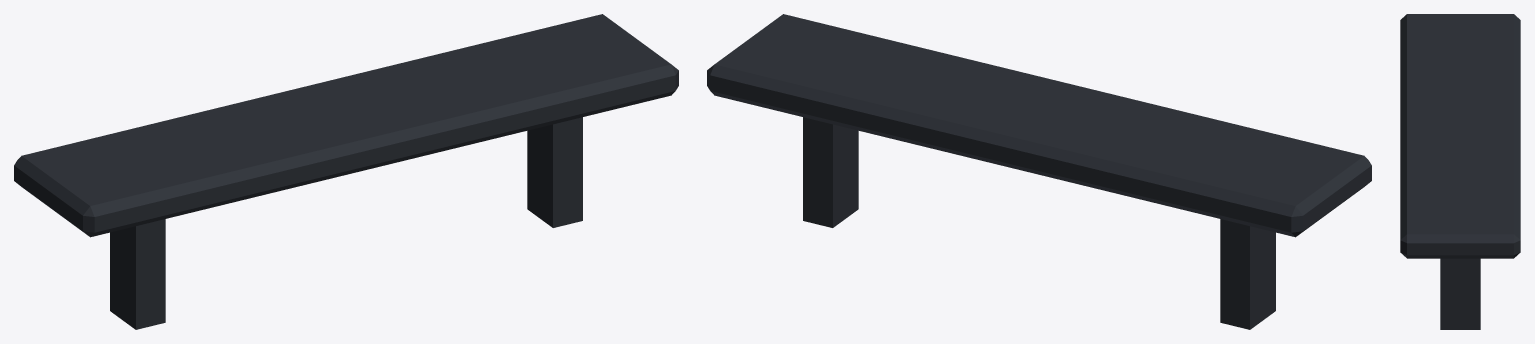
Rendered from att_spoiler.glb.
3 renders of one model, left to right at view 1: azimuth 30°, elevation 25°; view 2: azimuth 150°, elevation 25°; view 3: azimuth 270°, elevation 25°, orthographic. The views are drawn at different scales.
Visible parts, largest first — view 1: att_spoiler; view 2: att_spoiler; view 3: att_spoiler.
Boxes of the visible parts, x1,y1,x2,y2 form: att_spoiler: (14, 14, 678, 329); att_spoiler: (707, 14, 1371, 329); att_spoiler: (1400, 14, 1520, 329).
Bounding box in the file's own units: 0.8 × 0.2 × 0.18.
Materials: 1 (1 with a texture image).
